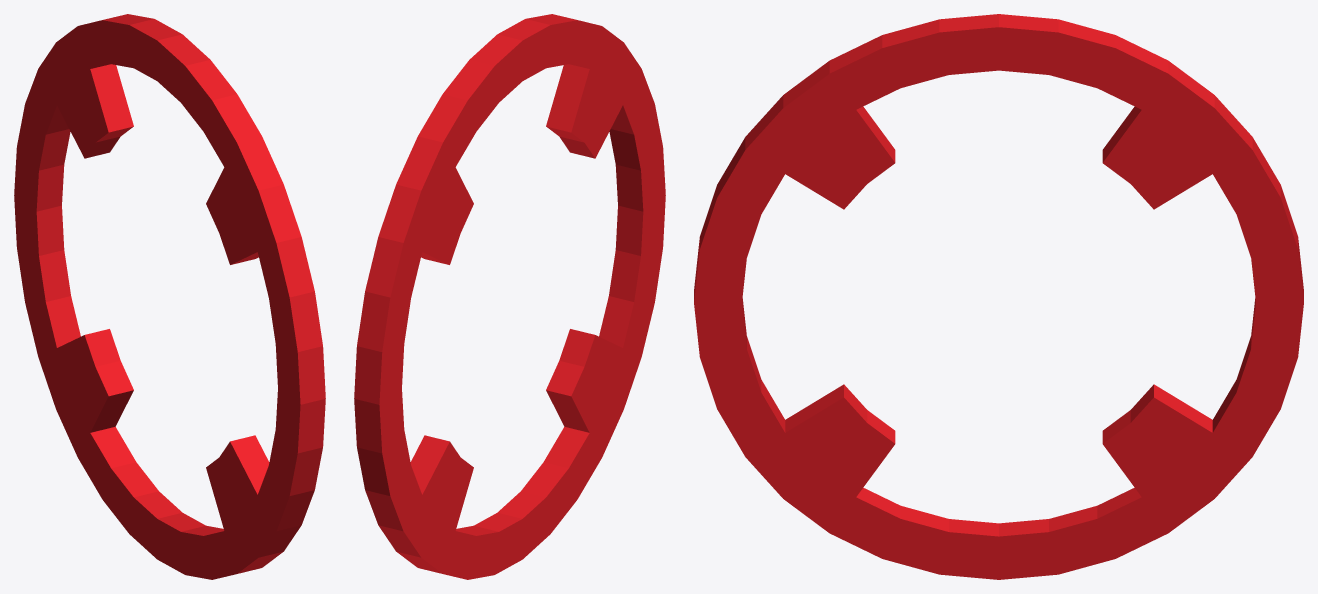
The model's file is Cursor.obj.
The picture shows the model from 3 angles, left to right: view 1: azimuth 30°, elevation 25°; view 2: azimuth 150°, elevation 25°; view 3: azimuth 270°, elevation 25°; orthographic projection. The views are drawn at different scales.
Visible parts, largest first — view 1: 円; view 2: 円; view 3: 円.
Part boxes in pixels (x1=…): 円: x1=14, y1=14, x2=325, y2=579; 円: x1=354, y1=14, x2=665, y2=579; 円: x1=694, y1=14, x2=1303, y2=579.
Bounding box in the file's own units: 0.2518 × 4.93 × 4.93.
1 material, 1 textured.
